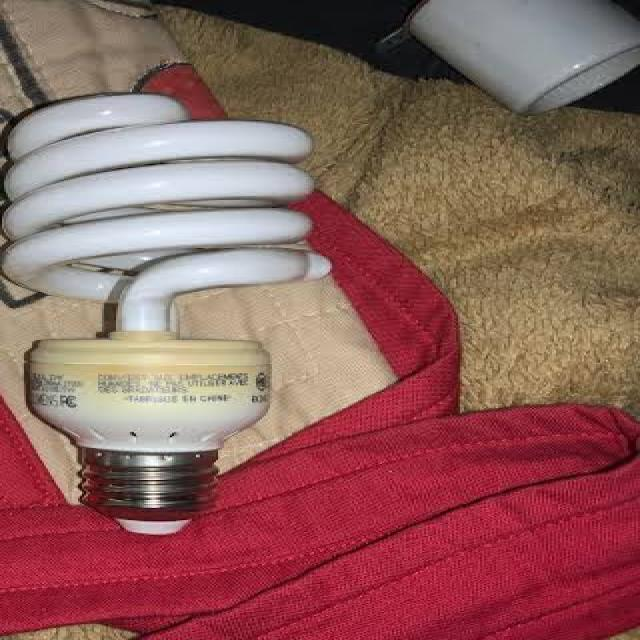bulb: (0, 100, 316, 550)
